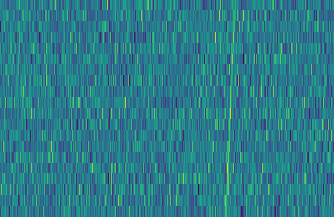signal: (222, 0, 240, 217)
